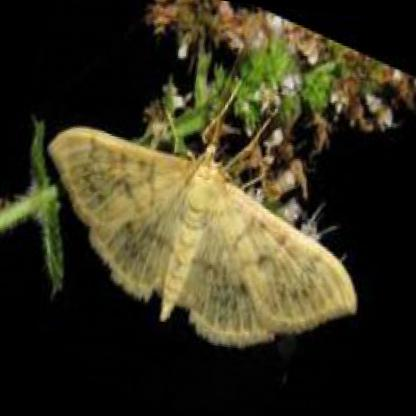Leaf Webber: (51, 120, 356, 343)
